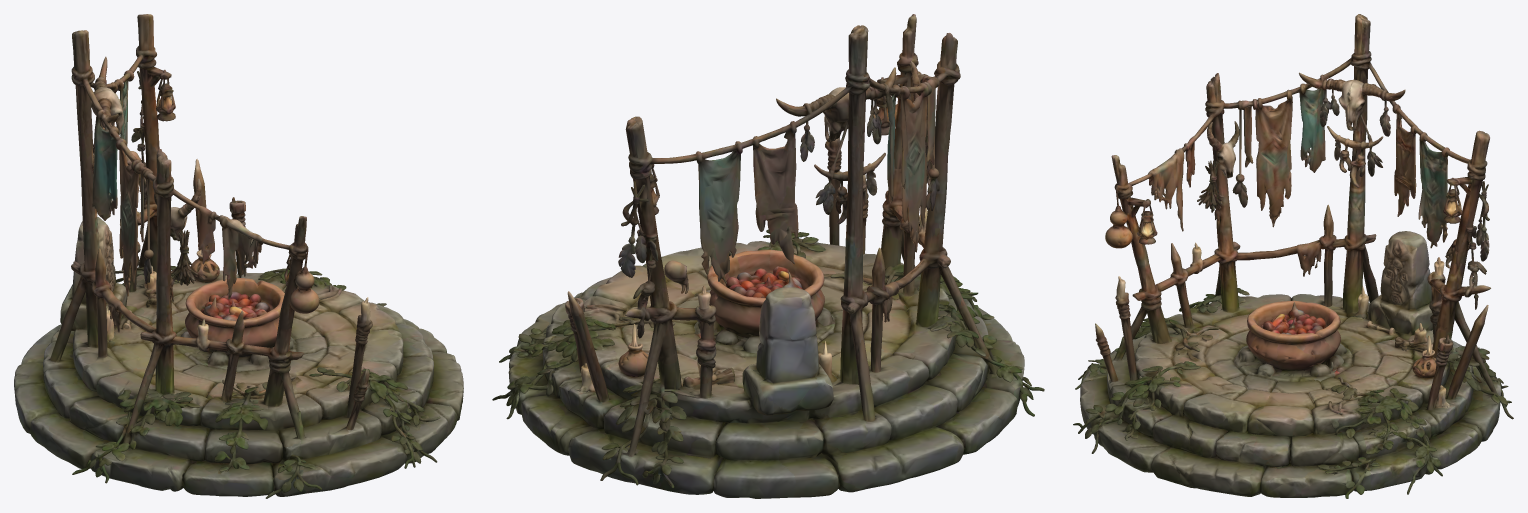
The model's file is bg_ritual.glb.
The picture shows the model from 3 angles, left to right: view 1: azimuth 30°, elevation 25°; view 2: azimuth 150°, elevation 25°; view 3: azimuth 270°, elevation 25°; orthographic projection. The views are drawn at different scales.
Visible parts, largest first — view 1: tripo_node_f44f33ff-3309-4952-80e0-31f4c9dd2a2f; view 2: tripo_node_f44f33ff-3309-4952-80e0-31f4c9dd2a2f; view 3: tripo_node_f44f33ff-3309-4952-80e0-31f4c9dd2a2f.
Part boxes in pixels (<box>): tripo_node_f44f33ff-3309-4952-80e0-31f4c9dd2a2f: <box>14,14,463,498</box>; tripo_node_f44f33ff-3309-4952-80e0-31f4c9dd2a2f: <box>492,14,1044,498</box>; tripo_node_f44f33ff-3309-4952-80e0-31f4c9dd2a2f: <box>1073,14,1513,498</box>.
Bounding box in the file's own units: 0.9387 × 0.8524 × 0.9797.
1 material, 1 textured.
